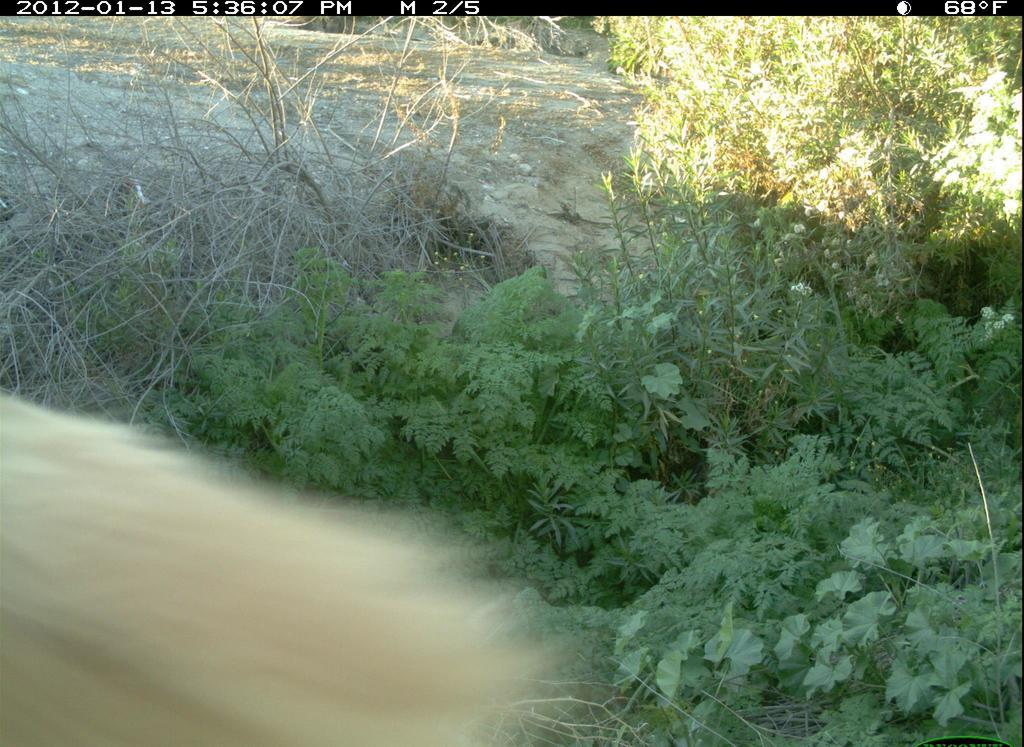dog: (6, 368, 593, 747)
